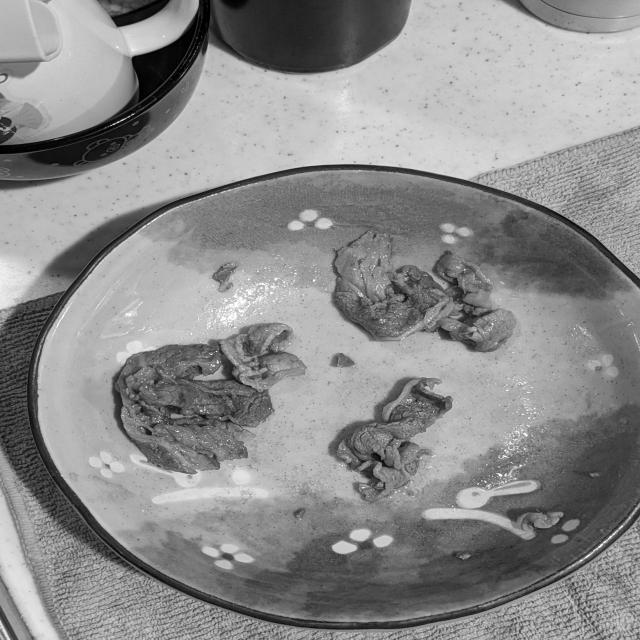OK cooked beef,: (108, 318, 314, 480), (326, 221, 518, 361), (315, 372, 467, 511)
